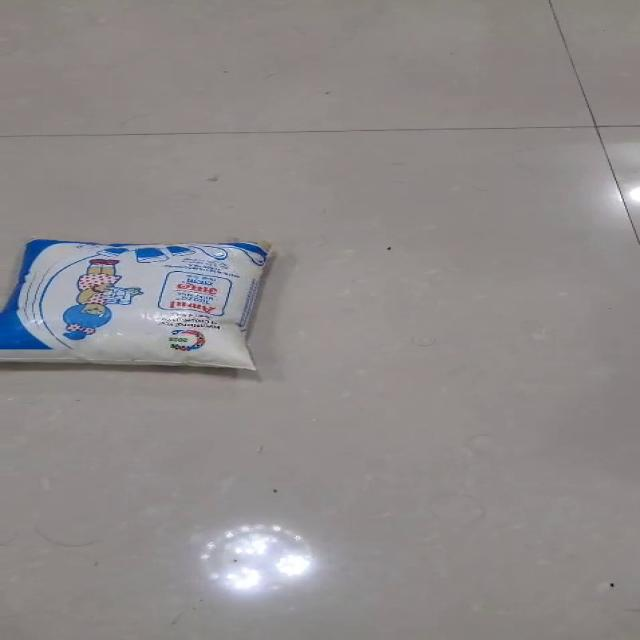plastic: (0, 237, 272, 371)
